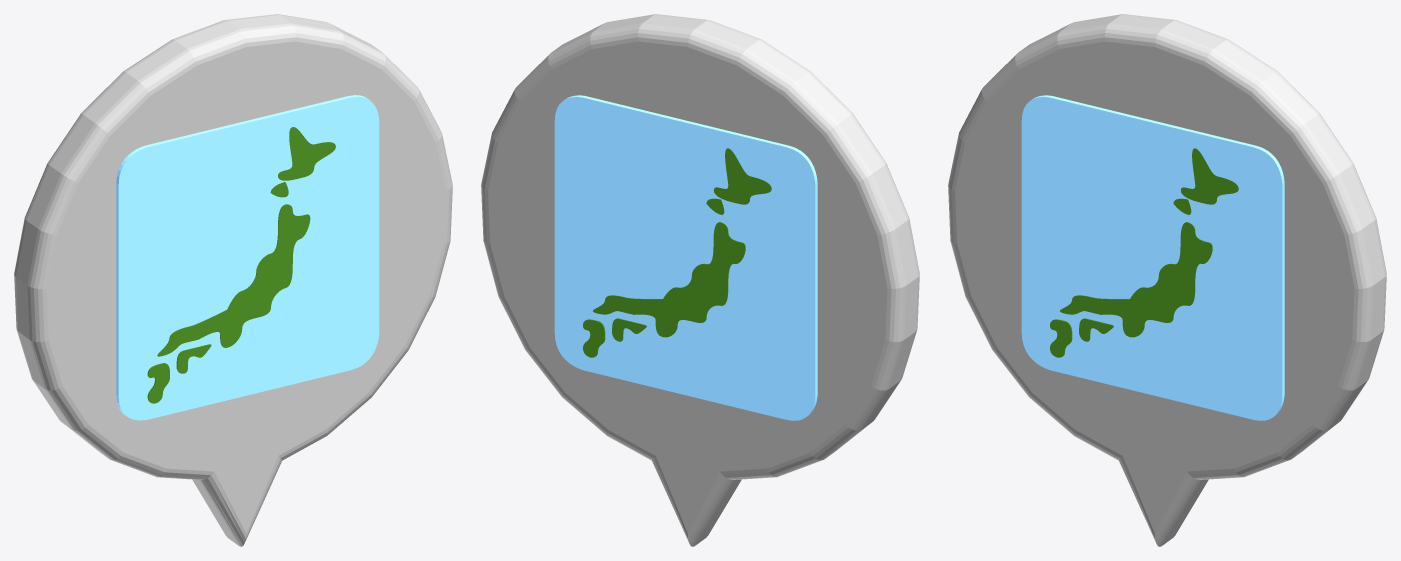
File: japan.glb
The picture shows the model from 3 angles, left to right: view 1: azimuth 30°, elevation 25°; view 2: azimuth 150°, elevation 25°; view 3: azimuth 330°, elevation 25°; orthographic projection.
Visible parts, largest first — view 1: EmotionBubble; view 2: EmotionBubble; view 3: EmotionBubble.
Boxes of the visible parts, x1,y1,x2,y2 form: EmotionBubble: (14, 14, 452, 546); EmotionBubble: (481, 14, 919, 546); EmotionBubble: (948, 14, 1386, 546).
Size of the model in its own units: 5.29 by 6.16 by 0.7.
